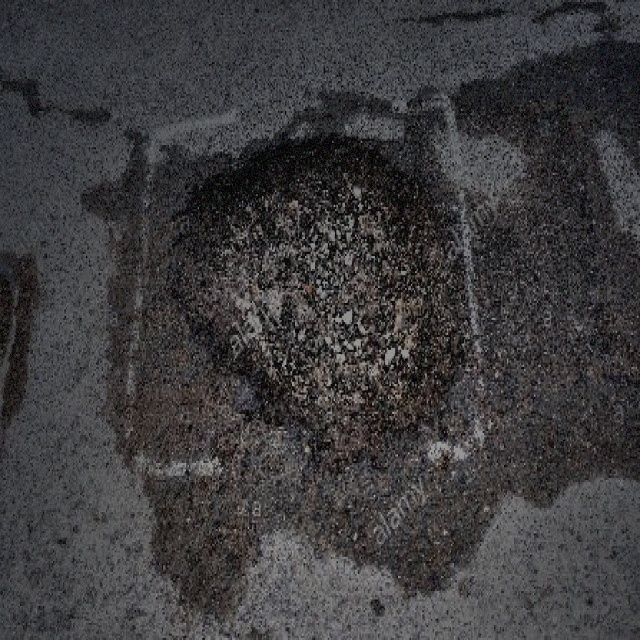pothole: (162, 124, 471, 467)
